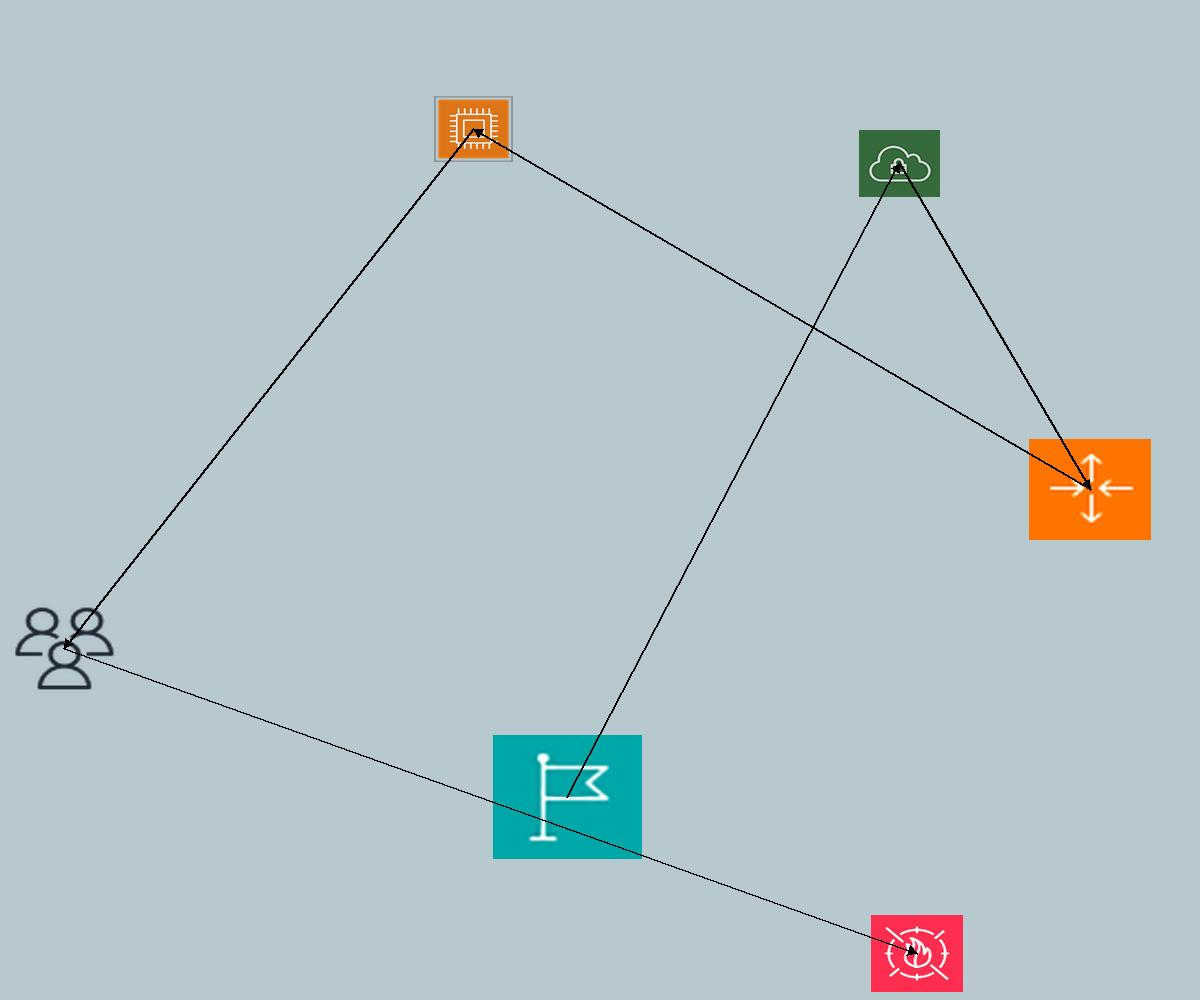AWS-Category_Compute: (434, 96, 513, 162)
AWS-Private_vpc: (859, 130, 940, 197)
AWS-Region: (493, 735, 642, 859)
AWS-Res_Users: (11, 604, 118, 693)
AWS-Scaling-group: (1029, 439, 1151, 540)
AWS-WAF: (871, 915, 963, 992)
